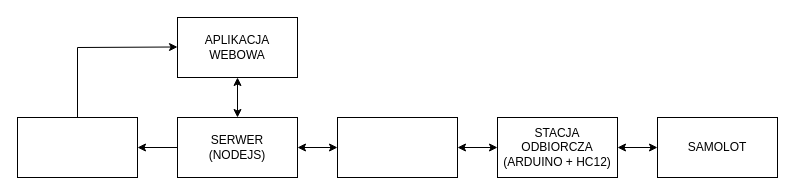
Some shapes in this 795 by 195 pixel diagram are drawn without their labels. The centre of each missing label's shape, as x and y in pixels:
APLIKCJA PRZEKAŹNIKOWA (PYTHON3): the point at 397,147
MAGAZYN PLIKÓW: the point at 77,147
